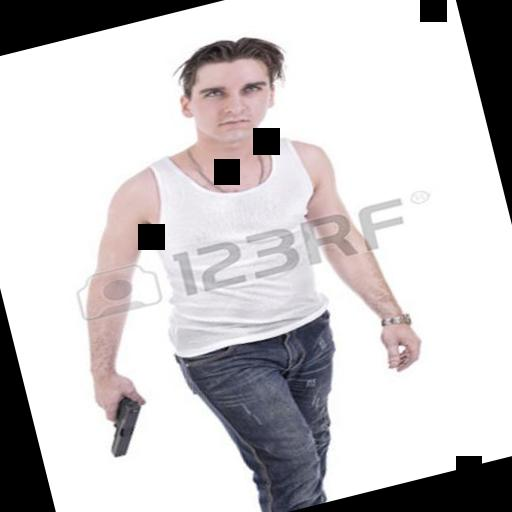Handgun: (88, 390, 152, 460)
